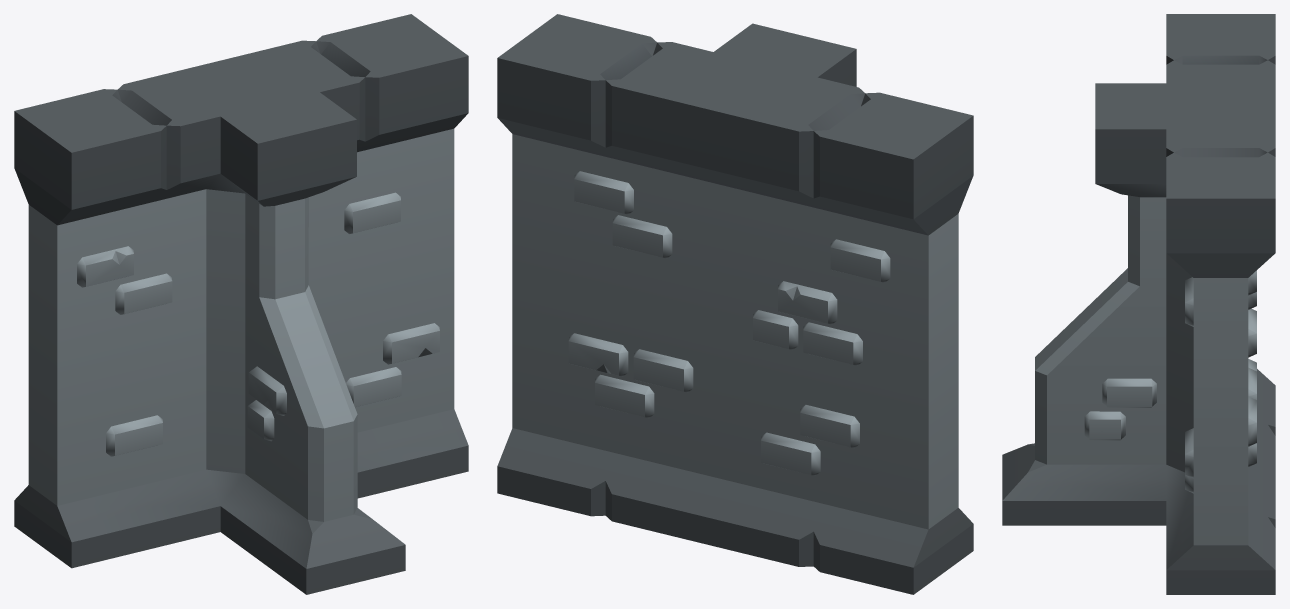
The model's file is wall_Tsplit_sloped.gltf.
3 views of the same model, side by side, from view 1: azimuth 30°, elevation 25°; view 2: azimuth 150°, elevation 25°; view 3: azimuth 270°, elevation 25° (orthographic). The views are drawn at different scales.
Visible parts, largest first — view 1: wall_Tsplit_sloped; view 2: wall_Tsplit_sloped; view 3: wall_Tsplit_sloped.
Boxes of the visible parts, x1=… form: wall_Tsplit_sloped: x1=14, y1=14, x2=468, y2=594; wall_Tsplit_sloped: x1=497, y1=14, x2=973, y2=594; wall_Tsplit_sloped: x1=1002, y1=14, x2=1275, y2=594.
Bounding box in the file's own units: 4 × 4 × 2.5.
Materials: 1 (1 with a texture image).
